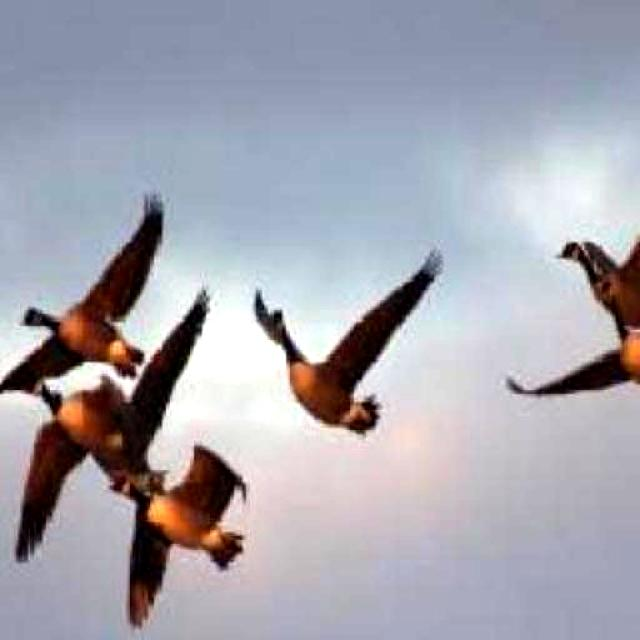airplane: (254, 246, 444, 438), (52, 285, 212, 498), (0, 195, 165, 395), (8, 371, 149, 561), (109, 444, 251, 630), (506, 279, 640, 399), (555, 186, 640, 340)
